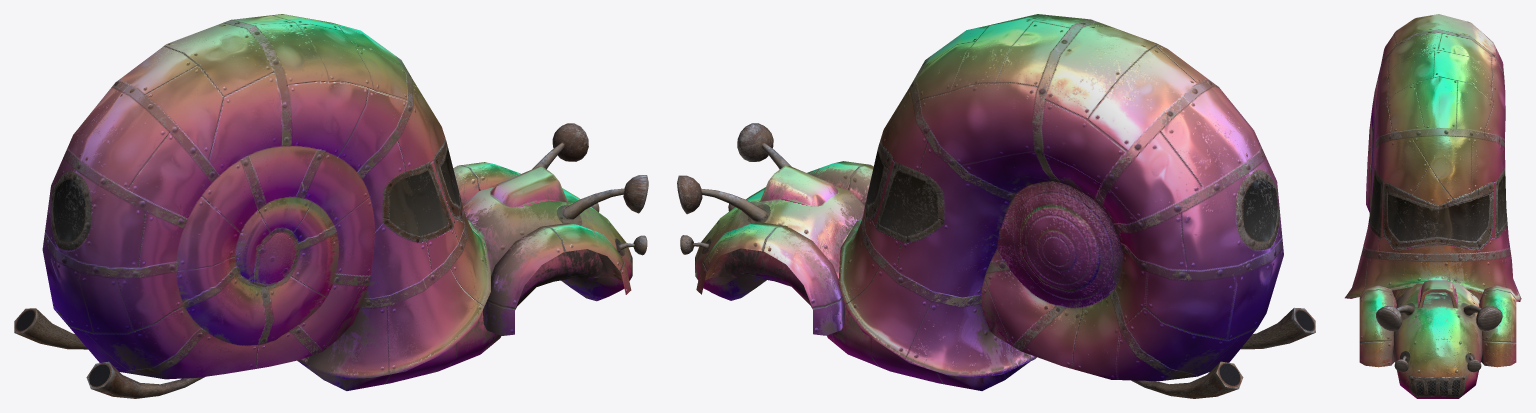
Rendered from f1_snail.dae.
3 views of the same model, side by side, from view 1: azimuth 30°, elevation 25°; view 2: azimuth 150°, elevation 25°; view 3: azimuth 270°, elevation 25° (orthographic). The views are drawn at different scales.
Parts seen in each view (by area): view 1: snail-car-body; view 2: snail-car-body; view 3: snail-car-body.
Boxes of the visible parts, <box> form: snail-car-body: <box>14,14,648,398</box>; snail-car-body: <box>677,14,1315,398</box>; snail-car-body: <box>1345,14,1521,398</box>.
Bounding box in the file's own units: 0.3247 × 0.1221 × 0.1956.
1 material, 1 textured.
